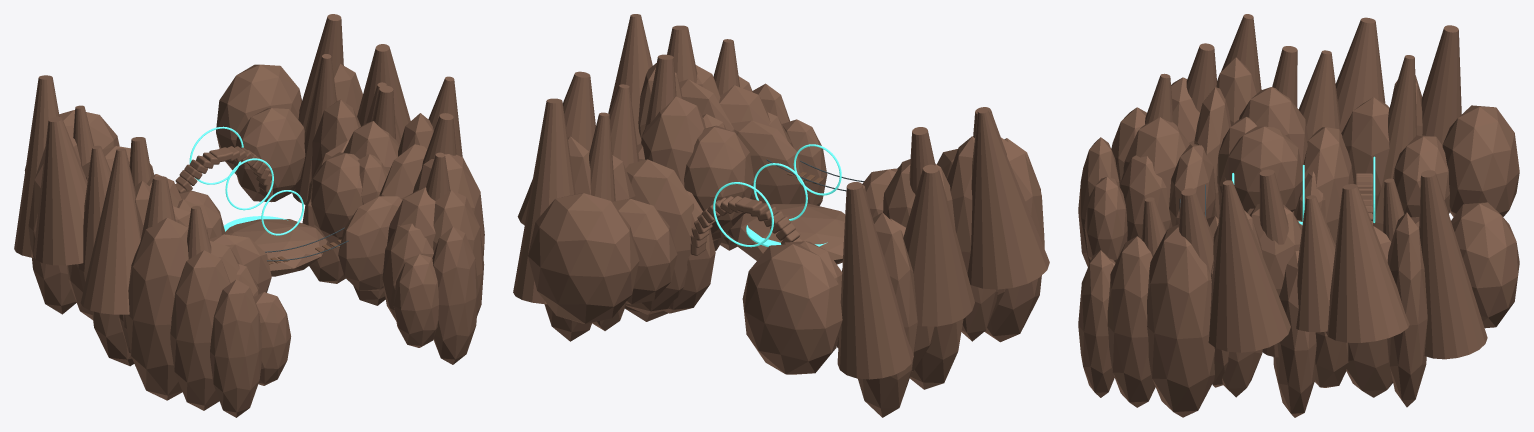
File: wind-canyon-high.glb
3 renders of one model, left to right at view 1: azimuth 30°, elevation 25°; view 2: azimuth 150°, elevation 25°; view 3: azimuth 270°, elevation 25°, orthographic. The views are drawn at different scales.
Parts seen in each view (by area): view 1: CanyonCliffs, LandingPad, WindTunnel, BrokenBridge; view 2: CanyonCliffs, LandingPad, WindTunnel; view 3: CanyonCliffs, WindTunnel.
Boxes of the visible parts, x1=… form: CanyonCliffs: x1=14, y1=14, x2=484, y2=417; LandingPad: x1=223, y1=216, x2=327, y2=276; WindTunnel: x1=175, y1=126, x2=303, y2=235; BrokenBridge: x1=265, y1=227, x2=348, y2=264; CanyonCliffs: x1=513, y1=14, x2=1049, y2=417; LandingPad: x1=730, y1=203, x2=845, y2=264; WindTunnel: x1=690, y1=144, x2=841, y2=255; CanyonCliffs: x1=1078, y1=14, x2=1519, y2=417; WindTunnel: x1=1232, y1=156, x2=1375, y2=224.
Size of the model in its own units: 194 by 113 by 175.
